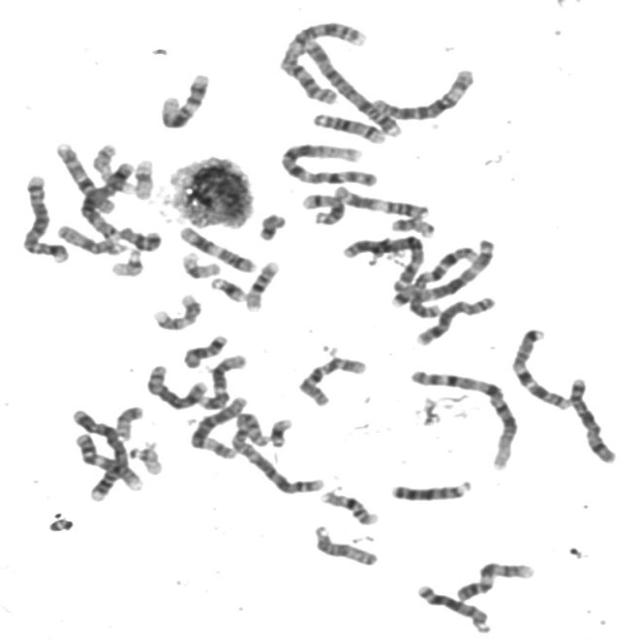A1: (405, 364, 521, 472), (276, 138, 380, 188)
A2: (226, 410, 327, 495), (275, 16, 369, 106)
A3: (406, 236, 496, 314), (338, 231, 429, 294)
B4: (297, 32, 404, 139), (66, 405, 134, 500)
B5: (18, 170, 72, 264), (76, 158, 136, 241)
C10: (50, 138, 116, 216), (293, 352, 370, 408)
C11: (174, 222, 258, 275), (330, 181, 433, 220)
C12: (156, 68, 212, 130), (194, 350, 250, 411)
C6: (370, 63, 478, 122), (186, 392, 251, 461)
C7: (506, 324, 574, 411), (393, 247, 481, 309)
C8: (412, 292, 498, 347), (141, 360, 211, 411)
C9: (70, 428, 145, 492), (452, 558, 538, 602)
D13: (412, 580, 494, 634), (386, 475, 474, 504)
D14: (308, 108, 388, 144), (296, 188, 348, 226)
D15: (309, 520, 380, 569), (51, 220, 128, 256)
E16: (316, 487, 381, 527), (240, 255, 283, 313)
E17: (87, 139, 137, 196), (148, 290, 204, 332)
E18: (179, 330, 231, 370), (113, 222, 164, 252)
F19: (177, 247, 224, 280), (129, 154, 157, 201)
F20: (112, 402, 146, 441), (387, 213, 438, 238)
G21: (206, 273, 249, 303), (266, 414, 294, 448)
G22: (125, 441, 165, 476), (107, 245, 146, 278)
X: (564, 373, 620, 465)
Y: (254, 208, 288, 242)
